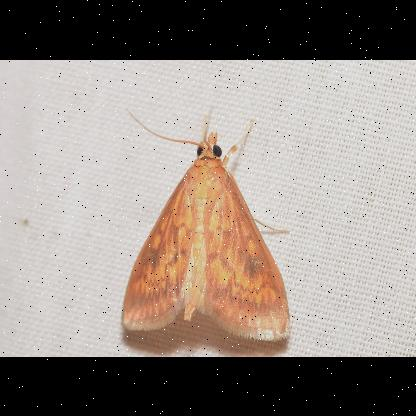Asian Corn Borer Moth: (120, 105, 292, 345)
